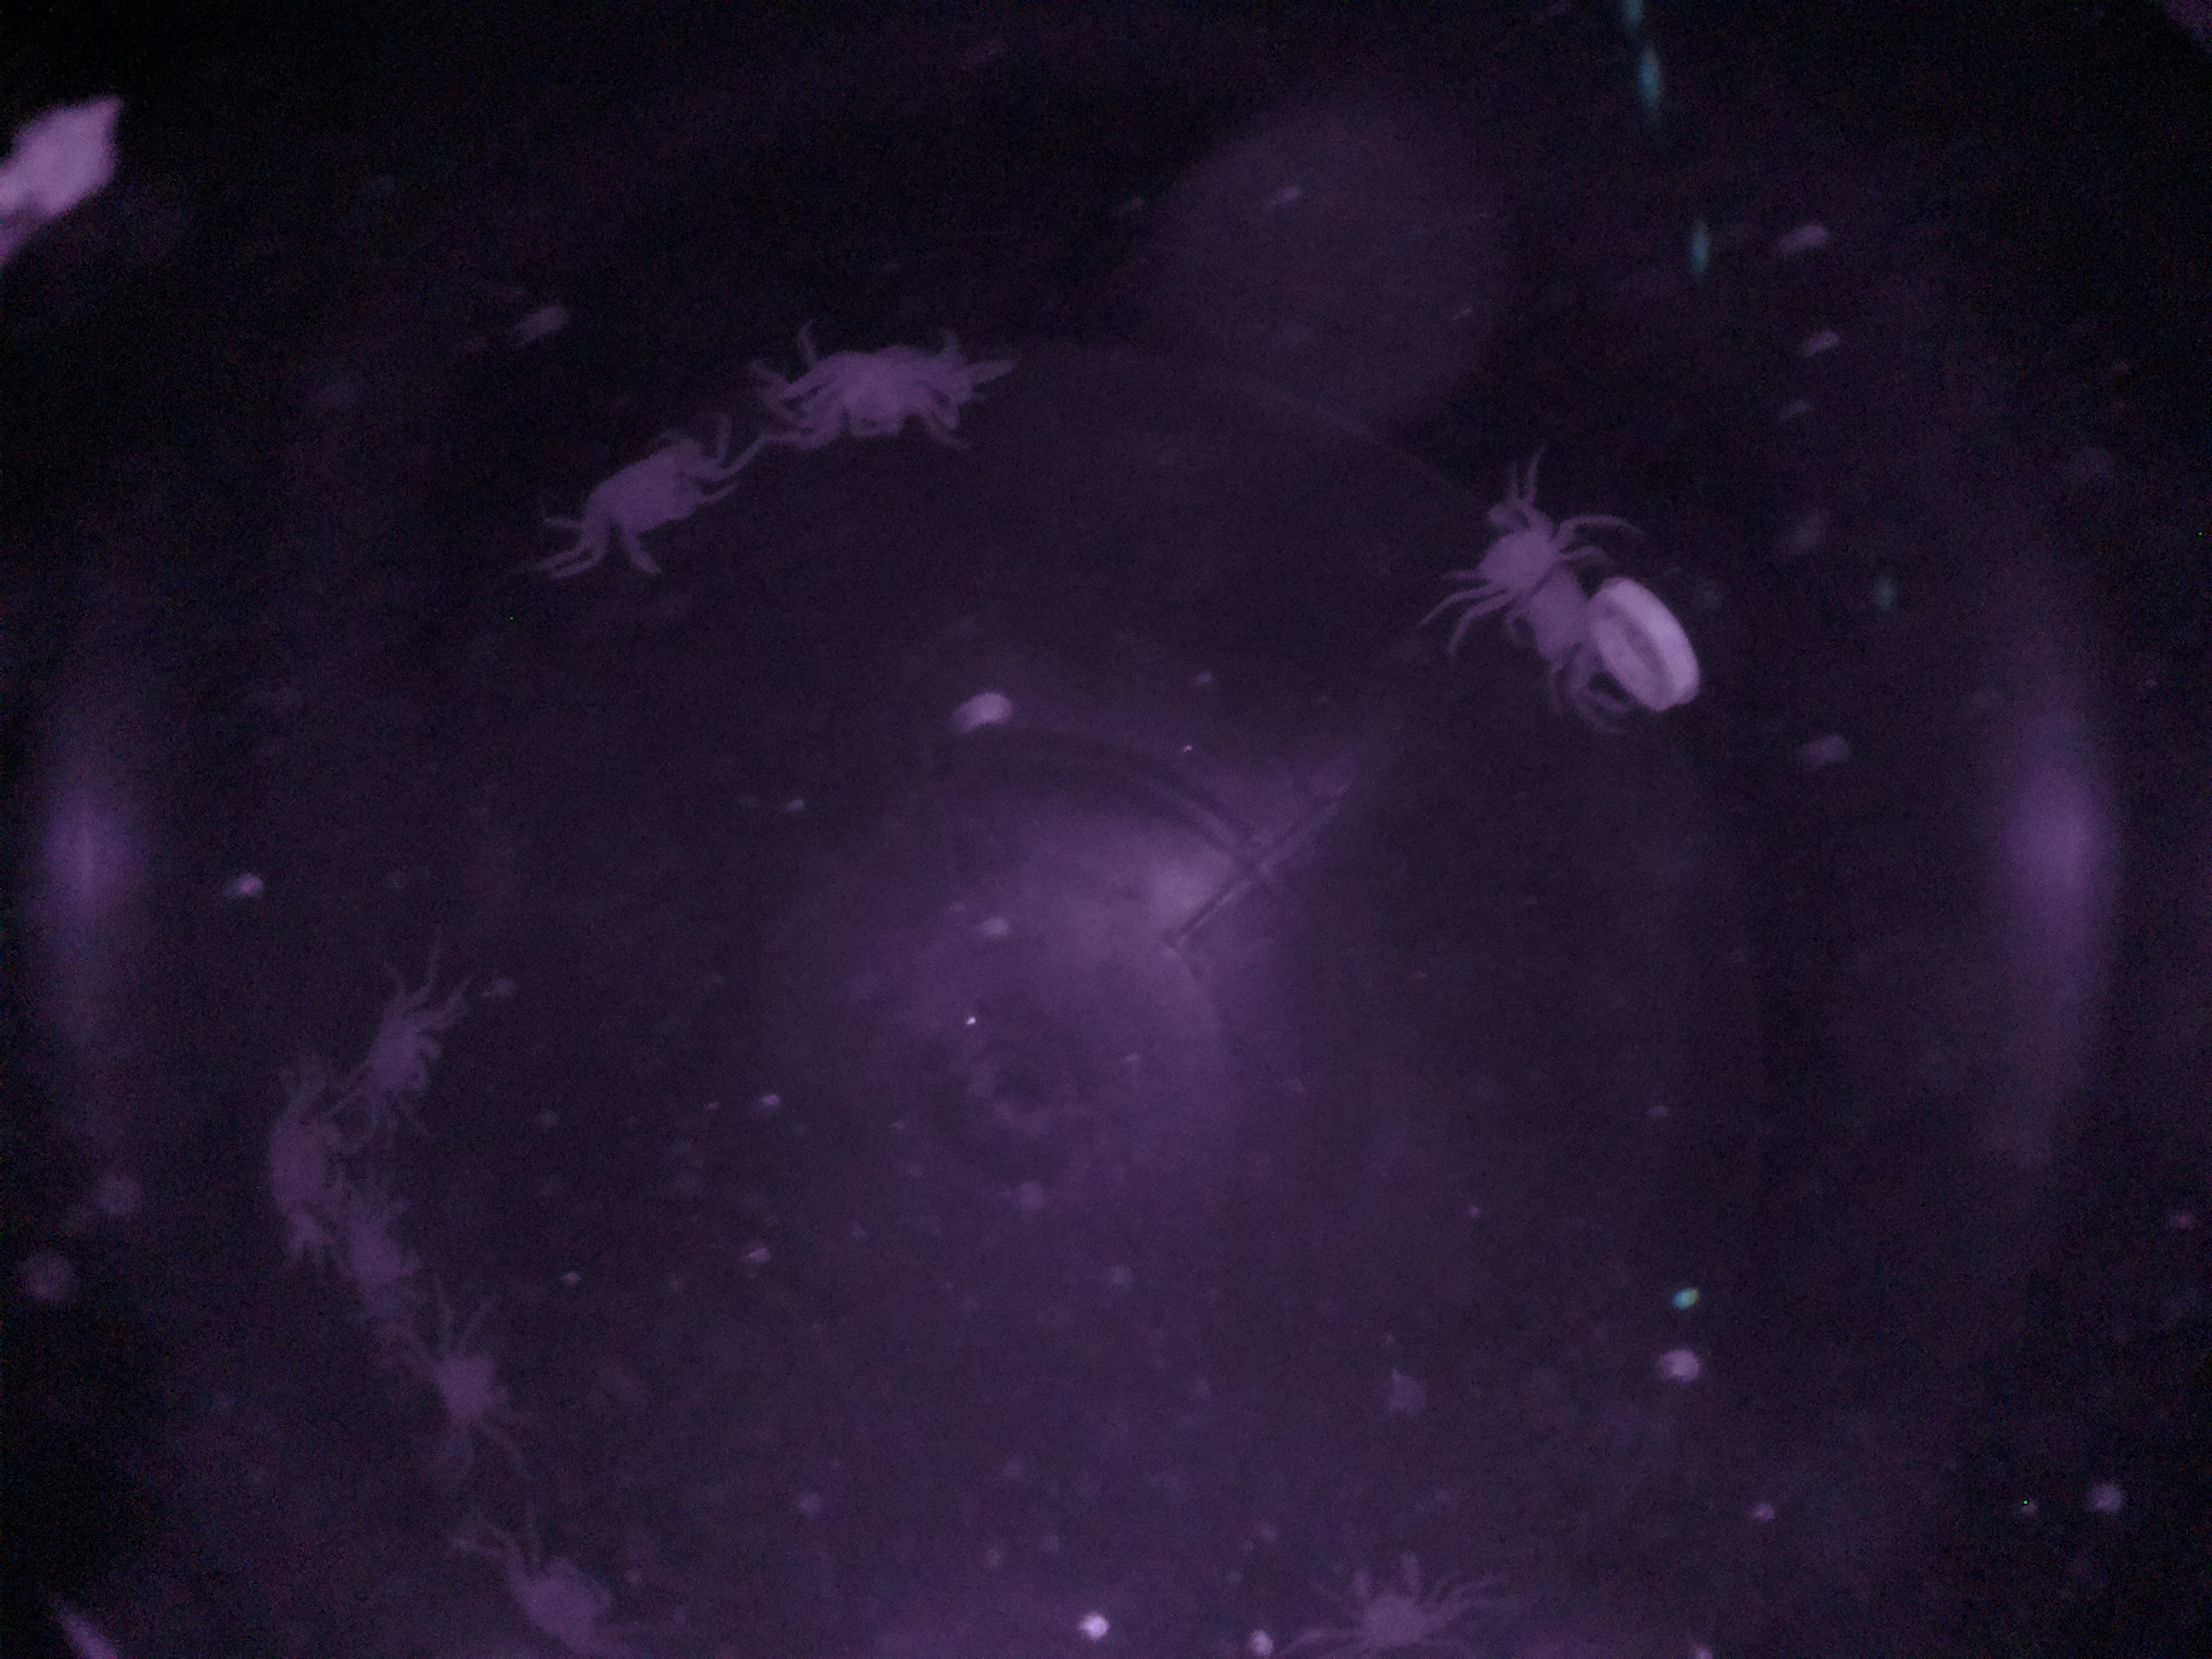Crab: (561, 410, 733, 603)
